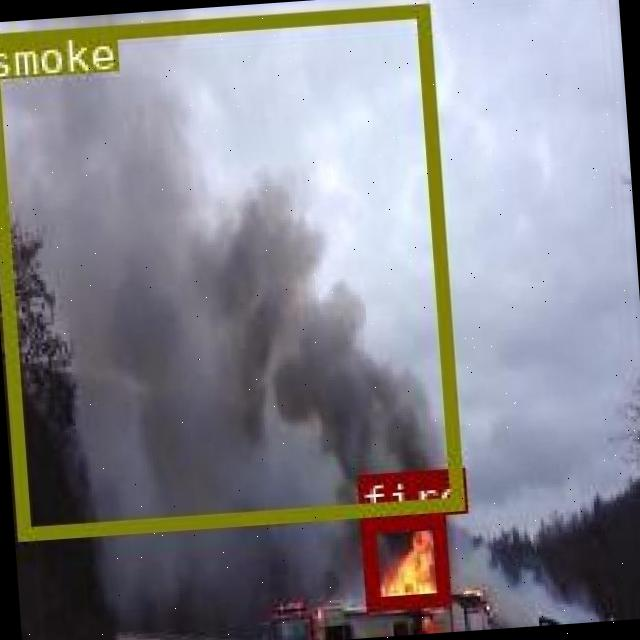fire: (358, 514, 449, 608)
smoke: (0, 3, 460, 539)
